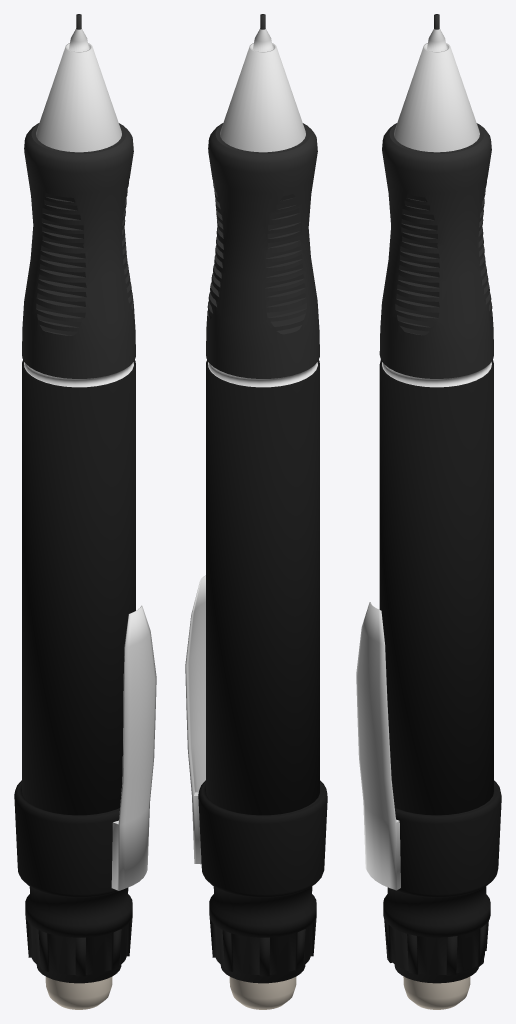
The model's file is pen.fbx.
3 renders of one model, left to right at view 1: azimuth 30°, elevation 25°; view 2: azimuth 210°, elevation 25°; view 3: azimuth 270°, elevation 25°, orthographic.
Parts seen in each view (by area): view 1: Cylinder, gummi greb med striber, Cylinder.005, Cylinder.001, Cylinder.002, Cylinder.006; view 2: Cylinder, gummi greb med striber, Cylinder.001, Cylinder.005, Cylinder.002, Cylinder.006; view 3: Cylinder, gummi greb med striber, Cylinder.005, Cylinder.001, Cylinder.002, Cylinder.006.
Boxes of the visible parts, left/top/right/bottom form: Cylinder: left=14, top=360, right=135, bottom=983; gummi greb med striber: left=22, top=123, right=135, bottom=378; Cylinder.005: left=111, top=605, right=156, bottom=890; Cylinder.001: left=36, top=28, right=121, bottom=152; Cylinder.002: left=45, top=976, right=112, bottom=1009; Cylinder.006: left=24, top=362, right=133, bottom=387; Cylinder: left=198, top=360, right=327, bottom=983; gummi greb med striber: left=206, top=123, right=319, bottom=378; Cylinder.001: left=220, top=28, right=305, bottom=152; Cylinder.005: left=185, top=575, right=205, bottom=864; Cylinder.002: left=229, top=976, right=296, bottom=1009; Cylinder.006: left=208, top=362, right=317, bottom=387; Cylinder: left=379, top=360, right=501, bottom=983; gummi greb med striber: left=379, top=123, right=493, bottom=378; Cylinder.005: left=356, top=602, right=400, bottom=890; Cylinder.001: left=394, top=29, right=479, bottom=152; Cylinder.002: left=403, top=976, right=470, bottom=1009; Cylinder.006: left=382, top=362, right=491, bottom=387.
Bounding box in the file's own units: 34.02 × 286 × 38.19.
